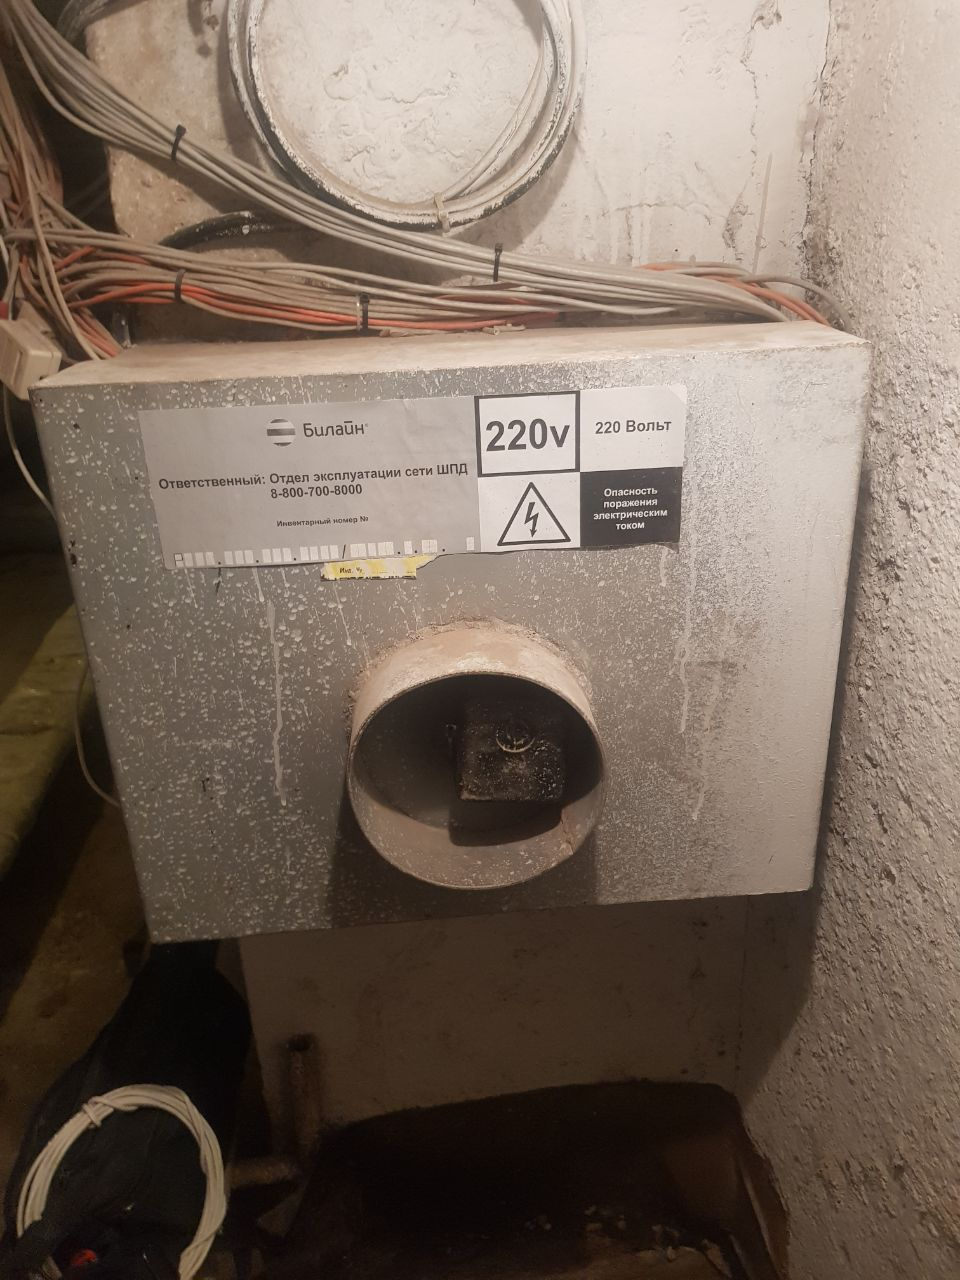shta-3: (24, 306, 881, 946)
